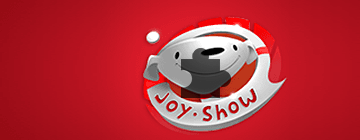target: (181, 48, 231, 98)
